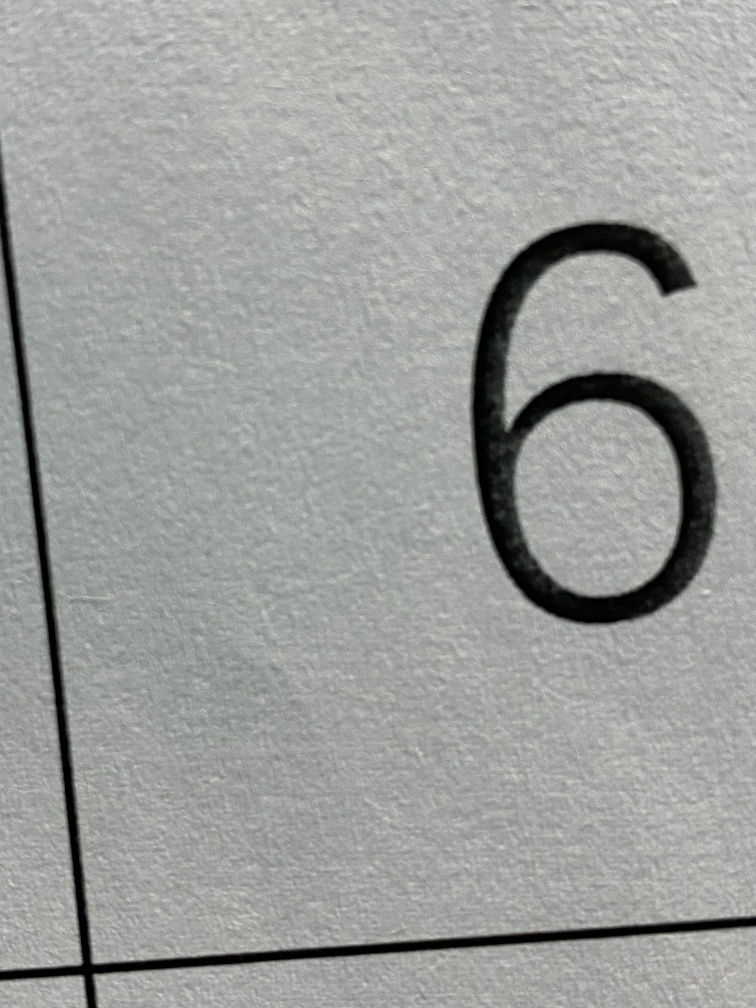six: (382, 136, 756, 721)
